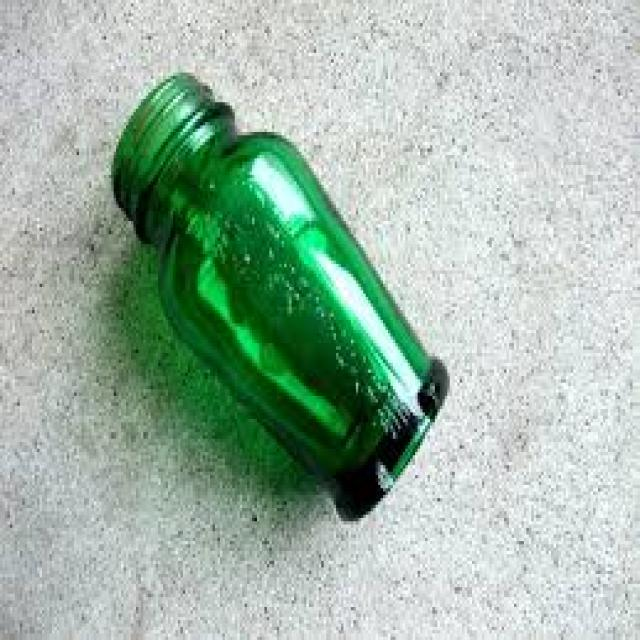glass: (111, 70, 445, 522)
